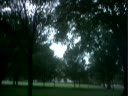window: (121, 56, 128, 72)
